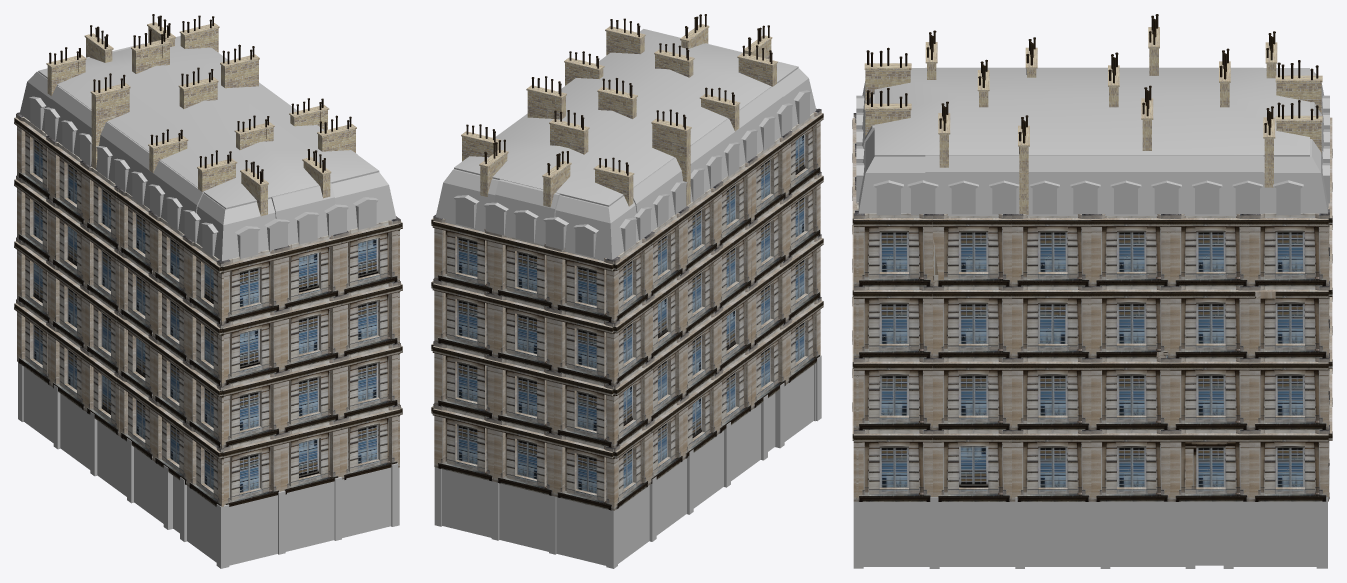
Rendered from BuildingA.fbx.
The picture shows the model from 3 angles, left to right: view 1: azimuth 30°, elevation 25°; view 2: azimuth 150°, elevation 25°; view 3: azimuth 270°, elevation 25°; orthographic projection. The views are drawn at different scales.
Parts seen in each view (by area): view 1: pCylinder24; view 2: pCylinder24; view 3: pCylinder24.
Boxes of the visible parts, left/top/right/bottom form: pCylinder24: left=14, top=14, right=402, bottom=568; pCylinder24: left=431, top=14, right=823, bottom=568; pCylinder24: left=852, top=14, right=1332, bottom=568.
Size of the model in its own units: 229 by 476 by 447.
